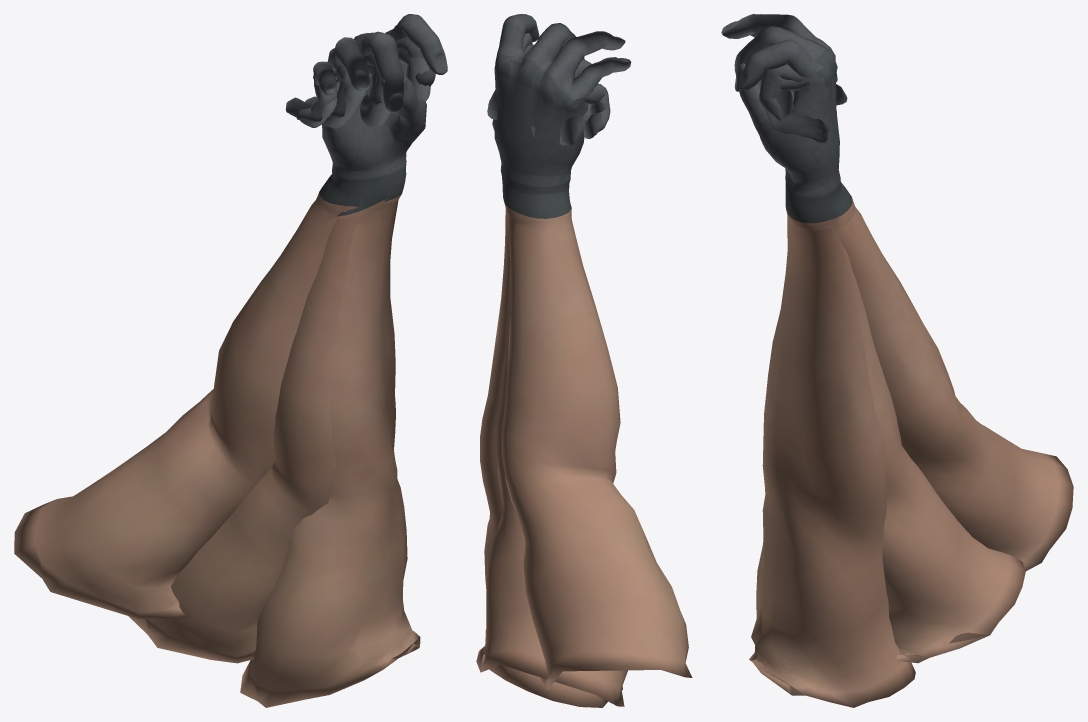
Rendered from view-hands.glb.
3 renders of one model, left to right at view 1: azimuth 30°, elevation 25°; view 2: azimuth 150°, elevation 25°; view 3: azimuth 270°, elevation 25°, orthographic. The views are drawn at different scales.
Parts seen in each view (by area): view 1: hand_trigger, hand_support, hand_knife; view 2: hand_trigger, hand_knife, hand_support; view 3: hand_support, hand_trigger, hand_knife.
Part boxes in pixels (x1,y1,x2,y2): hand_trigger: (14, 14, 447, 619); hand_support: (240, 48, 430, 707); hand_knife: (128, 31, 435, 663); hand_trigger: (492, 14, 692, 689); hand_knife: (476, 23, 631, 706); hand_support: (480, 43, 622, 707); hand_support: (739, 63, 915, 707); hand_trigger: (737, 39, 1073, 570); hand_knife: (721, 14, 1025, 663).
Bounding box in the file's own units: 0.8728 × 1.85 × 0.8564.
3 materials, 3 textured.
